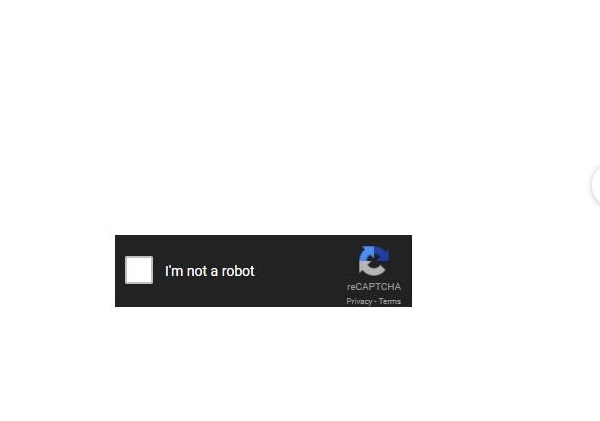captcha: (125, 256, 259, 285)
